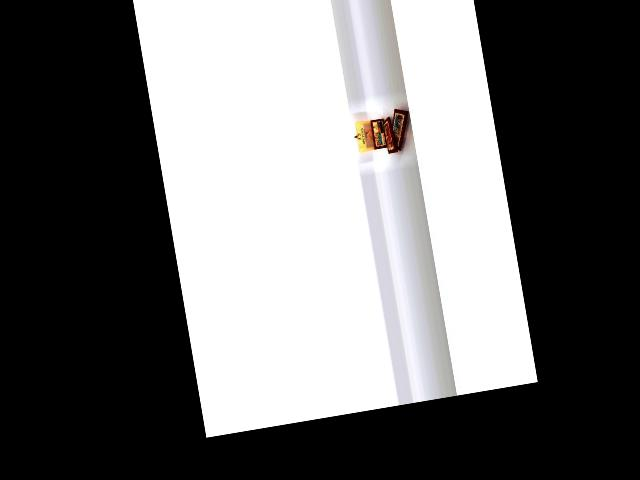chocolate: (385, 97, 418, 154)
